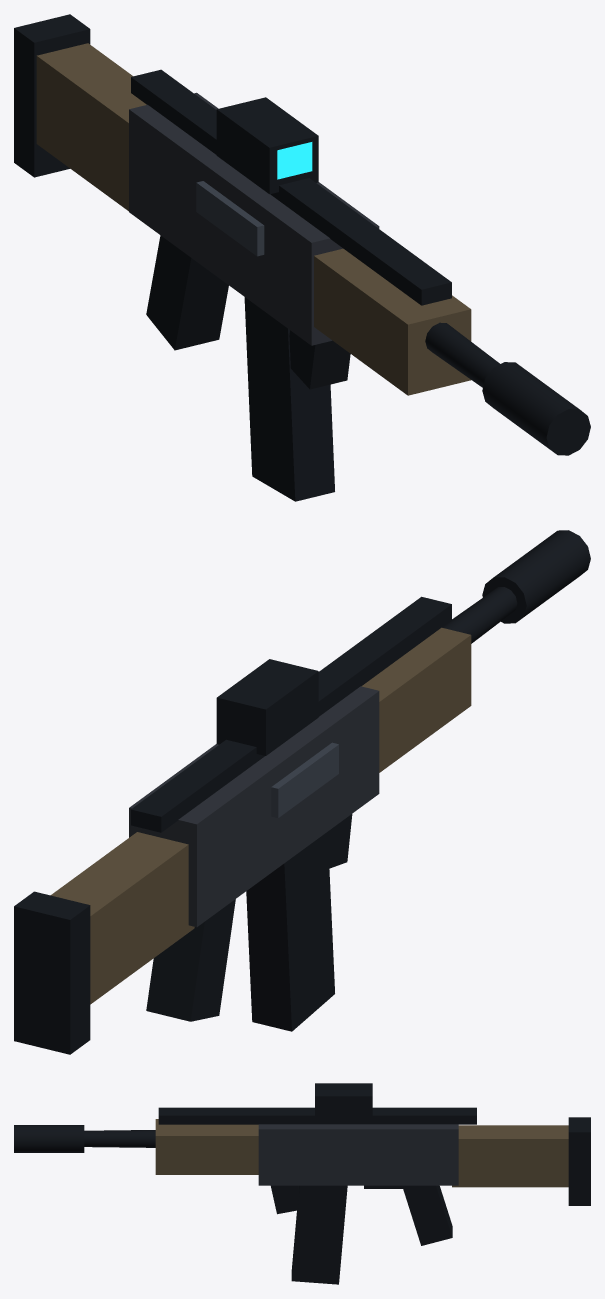
File: vector.glb
3 renders of one model, top to bottom at view 1: azimuth 30°, elevation 25°; view 2: azimuth 150°, elevation 25°; view 3: azimuth 270°, elevation 25°, orthographic. The views are drawn at different scales.
Visible parts, largest first — view 1: Weapon_vector; view 2: Weapon_vector; view 3: Weapon_vector.
Part boxes in pixels (x1=…): Weapon_vector: x1=14, y1=14, x2=590, y2=501; Weapon_vector: x1=14, y1=530, x2=590, y2=1054; Weapon_vector: x1=14, y1=1083, x2=590, y2=1284.
Size of the model in its own units: 0.064 by 0.2822 by 0.779.
